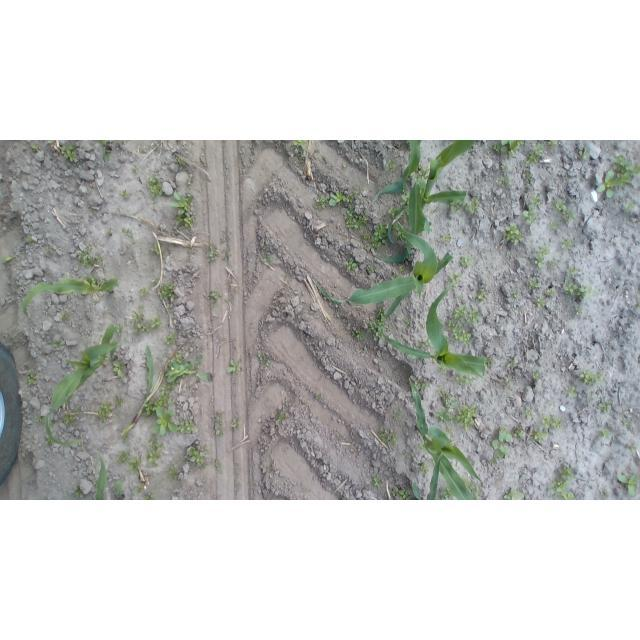Maize: (314, 218, 454, 316), (376, 140, 475, 265), (382, 283, 488, 382), (44, 325, 121, 448), (409, 376, 483, 500), (23, 275, 120, 318), (371, 141, 421, 204), (93, 451, 124, 500), (413, 452, 442, 500), (95, 141, 112, 162)
Weeds: (597, 155, 640, 198), (164, 354, 212, 383), (169, 192, 196, 229), (549, 466, 575, 500), (151, 407, 178, 435), (492, 424, 512, 458), (447, 319, 471, 346), (564, 279, 592, 302), (343, 205, 369, 229), (456, 404, 478, 432), (141, 395, 168, 417), (146, 437, 165, 467), (460, 476, 482, 501), (369, 309, 386, 341), (552, 200, 575, 223), (617, 472, 639, 496), (494, 141, 525, 158), (391, 222, 409, 249), (502, 223, 524, 245), (370, 224, 389, 249), (131, 311, 150, 335), (188, 447, 209, 468), (436, 401, 456, 423), (378, 427, 399, 447), (578, 369, 603, 385), (328, 190, 352, 206), (534, 246, 551, 268), (526, 144, 543, 166), (146, 176, 162, 198), (77, 245, 93, 267), (541, 415, 563, 430), (61, 143, 78, 161), (96, 402, 112, 421), (312, 195, 329, 212), (160, 284, 177, 301), (161, 380, 180, 395), (411, 165, 430, 179), (468, 308, 482, 327), (453, 305, 467, 324), (504, 488, 524, 501), (455, 374, 475, 387), (112, 361, 127, 378), (127, 458, 142, 475), (344, 258, 360, 273), (436, 389, 452, 404), (528, 193, 542, 210), (178, 420, 196, 433), (523, 211, 538, 226), (533, 429, 547, 444), (228, 358, 243, 372), (438, 487, 454, 500), (466, 197, 479, 213), (150, 316, 162, 333), (63, 413, 76, 428), (207, 243, 217, 262), (448, 272, 461, 286), (117, 450, 130, 464), (352, 329, 367, 341), (599, 399, 611, 414), (210, 291, 220, 308), (526, 278, 539, 291), (460, 255, 473, 268), (90, 275, 104, 287), (26, 370, 37, 385), (400, 188, 410, 204), (370, 474, 382, 487), (213, 411, 224, 425), (397, 489, 411, 500), (169, 465, 180, 479), (122, 426, 130, 444), (450, 200, 462, 212), (475, 290, 487, 302), (386, 159, 397, 172), (566, 265, 579, 276), (164, 334, 177, 345), (74, 486, 85, 499), (560, 238, 572, 249), (536, 296, 546, 309), (413, 381, 427, 390), (420, 461, 429, 475), (600, 429, 611, 440), (566, 387, 577, 398), (213, 426, 224, 437), (579, 149, 590, 160), (387, 206, 399, 216), (276, 411, 286, 423), (134, 483, 144, 495), (113, 395, 123, 407), (444, 426, 453, 439), (422, 338, 432, 349), (513, 428, 523, 439), (138, 288, 150, 297), (50, 340, 62, 349), (437, 364, 447, 374), (351, 189, 360, 200), (114, 324, 123, 335), (626, 202, 635, 213), (29, 143, 40, 152), (123, 229, 134, 238), (151, 244, 160, 255), (222, 249, 231, 260), (495, 177, 509, 184), (532, 368, 540, 380), (231, 418, 238, 431), (523, 409, 533, 418), (119, 190, 129, 199), (175, 157, 186, 165), (263, 255, 274, 263), (215, 459, 222, 471), (548, 259, 557, 268), (36, 414, 45, 423), (392, 411, 400, 421), (45, 245, 53, 255), (485, 358, 492, 369), (145, 493, 156, 500), (293, 141, 308, 146), (366, 265, 374, 274), (418, 442, 426, 451), (549, 140, 558, 148), (443, 234, 452, 242), (45, 437, 53, 446), (508, 360, 518, 367), (362, 231, 370, 239), (575, 306, 583, 314), (512, 289, 520, 297), (550, 221, 558, 229), (131, 166, 139, 174), (73, 405, 81, 413), (265, 358, 272, 367), (315, 394, 323, 401), (389, 488, 396, 496), (547, 289, 555, 296), (603, 490, 610, 498), (151, 277, 159, 284), (94, 255, 102, 262), (4, 255, 12, 262), (59, 313, 67, 320), (168, 397, 175, 405), (527, 172, 532, 183), (391, 274, 401, 279), (405, 317, 412, 324), (402, 210, 410, 216), (456, 295, 463, 301), (491, 459, 498, 465), (258, 353, 264, 360), (593, 289, 599, 296), (630, 446, 637, 452), (501, 165, 508, 171), (420, 322, 426, 328), (403, 452, 409, 458), (26, 237, 32, 243), (166, 307, 172, 313), (388, 325, 393, 332), (548, 401, 553, 408), (93, 479, 98, 486), (114, 140, 122, 144), (506, 251, 511, 257), (139, 305, 144, 311), (400, 265, 405, 271), (185, 181, 191, 186), (298, 153, 305, 157), (624, 423, 631, 427), (151, 199, 158, 203), (49, 420, 53, 427), (342, 162, 346, 168), (637, 300, 640, 308), (107, 228, 111, 234), (415, 342, 420, 346), (566, 176, 571, 180), (429, 222, 433, 227), (132, 239, 137, 243), (162, 248, 167, 252), (262, 246, 267, 250), (272, 300, 276, 304), (590, 397, 594, 401), (342, 497, 347, 500)
